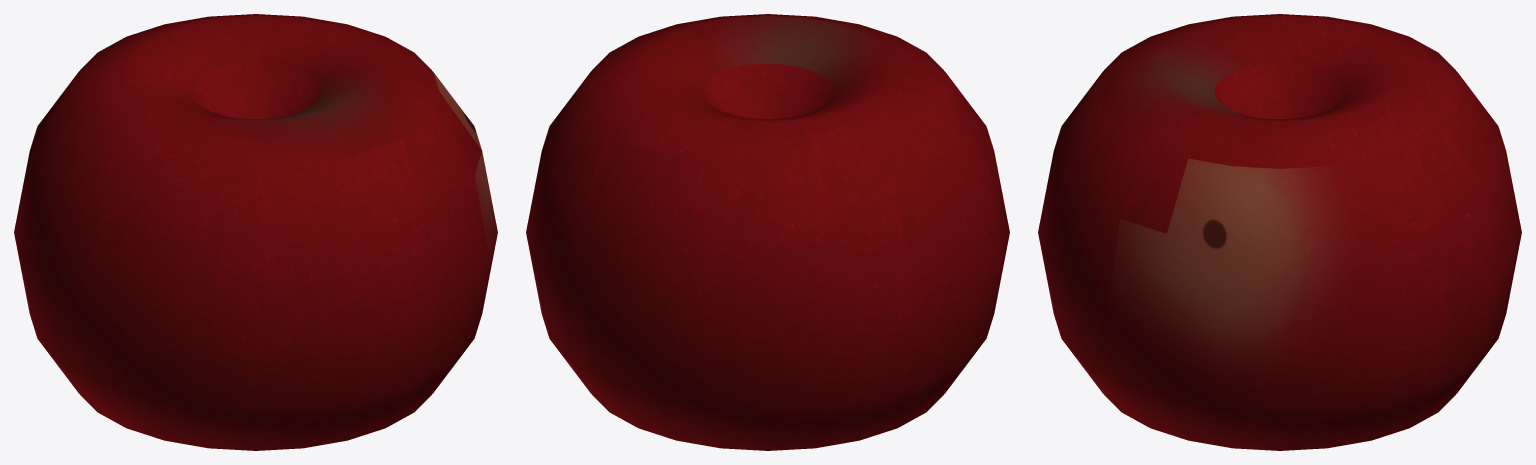
The model's file is Apple.obj.
3 renders of one model, left to right at view 1: azimuth 30°, elevation 25°; view 2: azimuth 150°, elevation 25°; view 3: azimuth 270°, elevation 25°, orthographic.
Parts seen in each view (by area): view 1: Torus01; view 2: Torus01; view 3: Torus01.
Boxes of the visible parts, <box> form: Torus01: <box>14,14,497,450</box>; Torus01: <box>526,14,1009,450</box>; Torus01: <box>1038,14,1521,450</box>.
Bounding box in the file's own units: 290 × 216 × 290.
